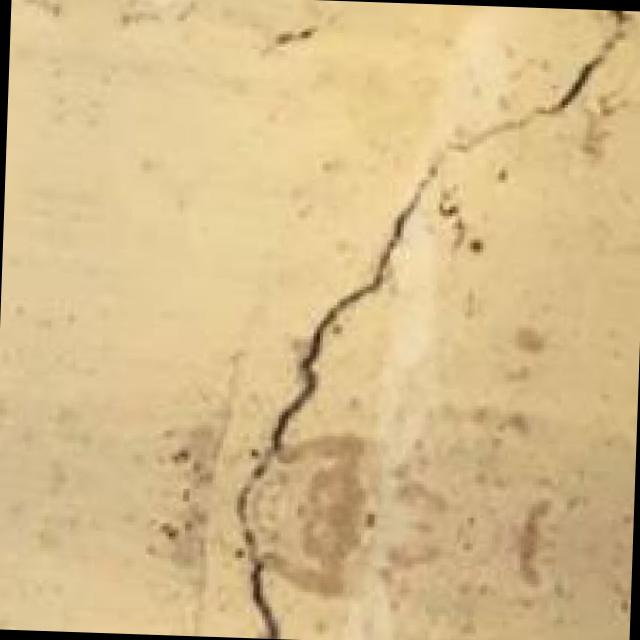crack: (123, 16, 624, 640)
